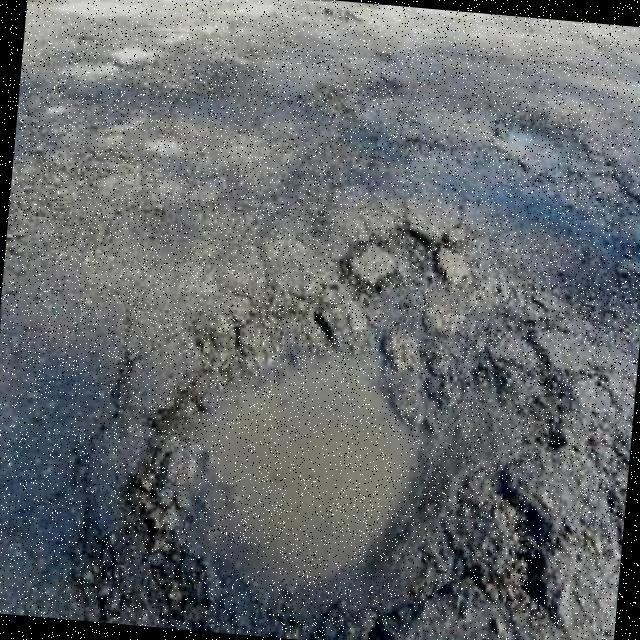Pothole: (150, 224, 573, 640)
